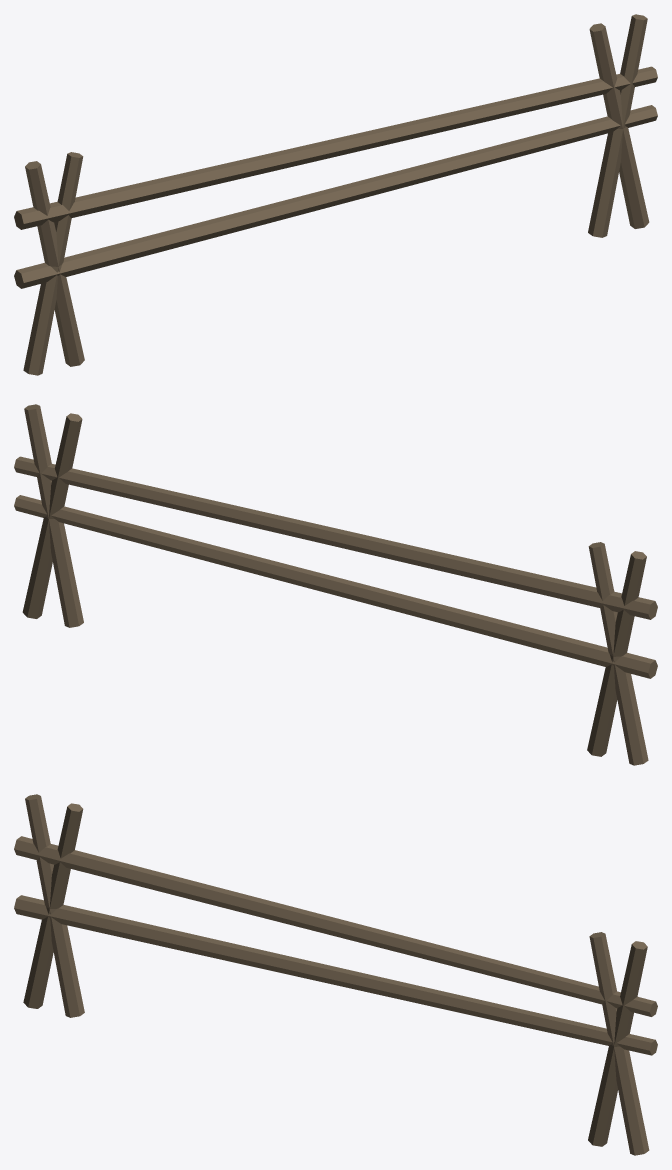
File: UM_Stangenzaun_4m.fbx
3 renders of one model, top to bottom at view 1: azimuth 30°, elevation 25°; view 2: azimuth 150°, elevation 25°; view 3: azimuth 330°, elevation 25°, orthographic.
Visible parts, largest first — view 1: UM_Stangenzaun_4m; view 2: UM_Stangenzaun_4m; view 3: UM_Stangenzaun_4m.
Boxes of the visible parts, <box> form: UM_Stangenzaun_4m: <box>14,14,657,375</box>; UM_Stangenzaun_4m: <box>14,404,657,765</box>; UM_Stangenzaun_4m: <box>14,794,657,1155</box>.
Size of the model in its own units: 4.5 by 1.42 by 0.12.
